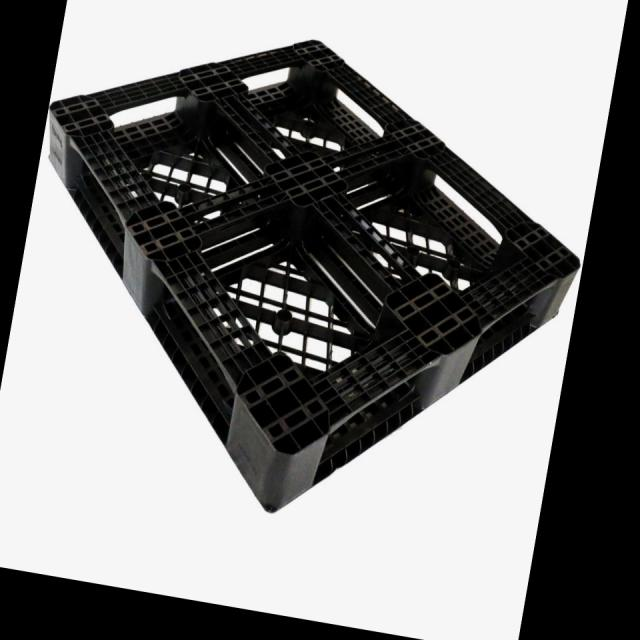non-igps: (44, 37, 586, 518)
